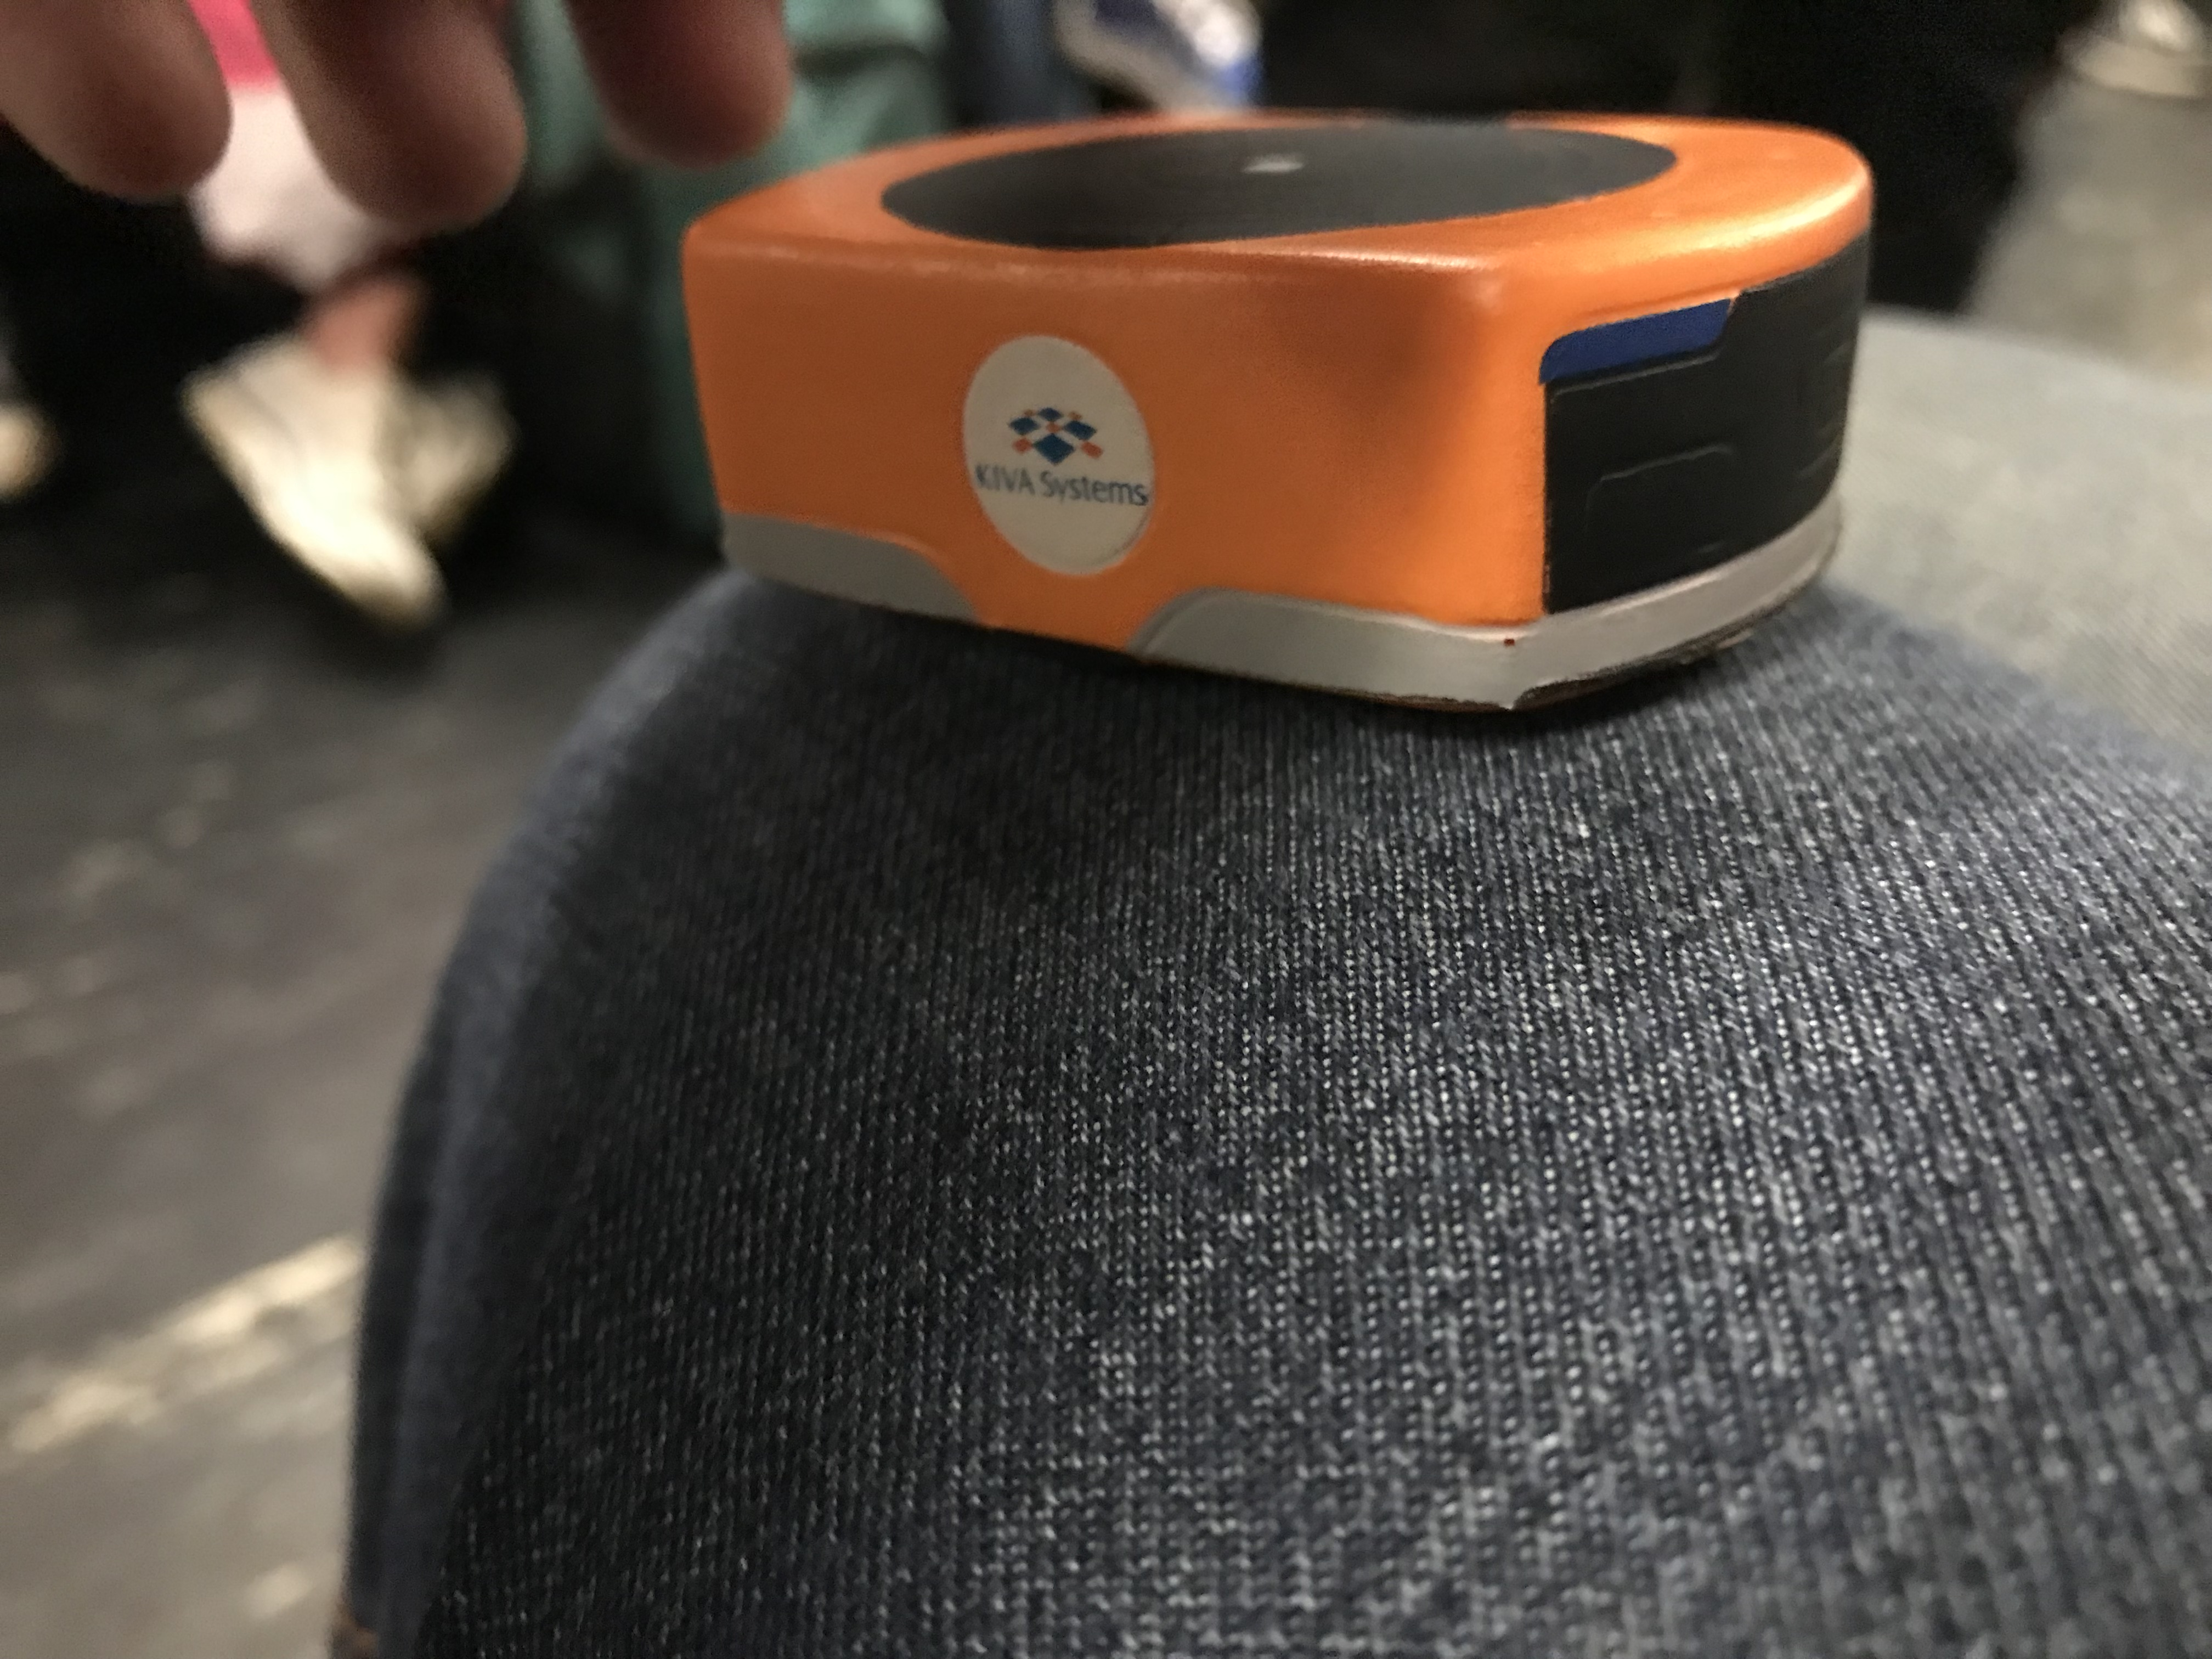amazon_bot: (664, 108, 1874, 734)
